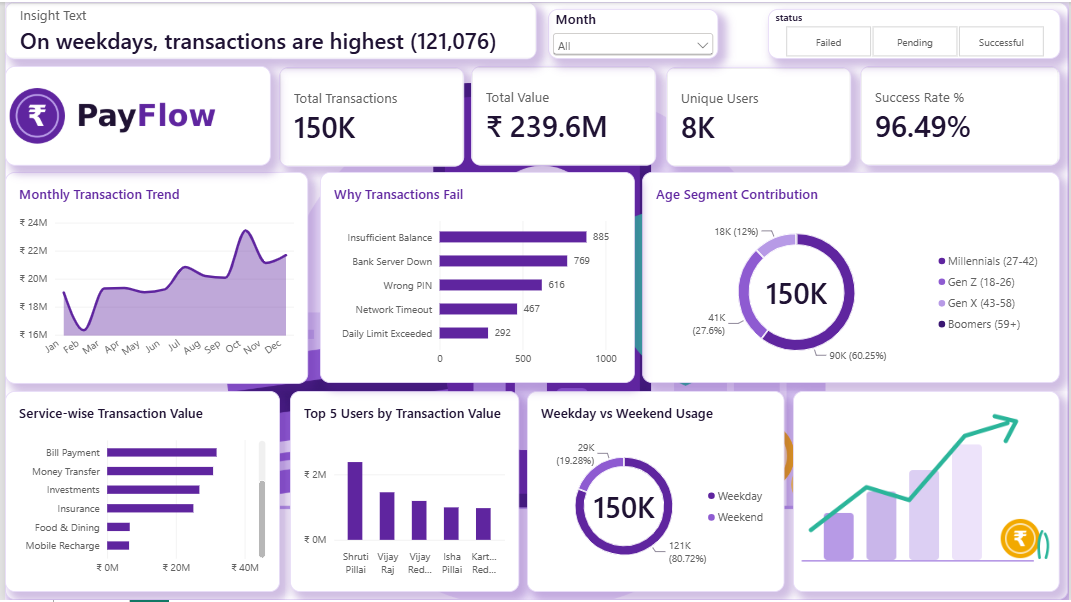

What the dashboard file says about the page in this screenshot:
{"tool":"powerbi","page":{"name":"Page 1","canvas":[1280,720],"ordinal":0},"visuals":[{"type":"image","box":[0,0,1280,720.4],"z":0},{"type":"cardVisual","fields":{"Data":["transactions.Total Transactions"]},"box":[330,78,223,120],"z":1000},{"type":"cardVisual","fields":{"Data":["transactions.Total Value"]},"box":[560.7,77.6,223,120],"z":2000},{"type":"cardVisual","fields":{"Data":["transactions.Unique Users"]},"box":[796,78,223,120],"z":3000},{"type":"cardVisual","fields":{"Data":["transactions.Success Rate %"]},"box":[1029.1,77.6,240.9,120.4],"z":4000},{"type":"areaChart","title":"Monthly Transaction Trend","fields":{"Category":["DimDate.Month"],"Y":["transactions.Total Value"]},"box":[0,204.4,365,255],"z":5000},{"type":"donutChart","title":"Age Segment Contribution","fields":{"Category":["users.age_group"],"Y":["transactions.Total Transactions"]},"box":[766.8,204.8,503.2,254.3],"z":6000},{"type":"clusteredBarChart","title":"Service-wise Transaction Value","fields":{"Category":["transactions.service_type"],"Y":["transactions.Total Value"]},"box":[0,468.4,330.6,242.2],"z":7000},{"type":"clusteredColumnChart","title":"Top 5 Users by Transaction Value","fields":{"Category":["users.user_name"],"Y":["transactions.Total Value"]},"box":[342.6,468.4,275.7,242.2],"z":8000},{"type":"donutChart","title":"Weekday vs Weekend Usage","fields":{"Category":["DimDate.Day Type"],"Y":["transactions.Total Transactions"]},"box":[629,468.4,310.5,242.2],"z":9000},{"type":"slicer","fields":{"Values":["DimDate.Month"]},"box":[654,8,205,60],"z":10000},{"type":"slicer","fields":{"Values":["transactions.status"]},"box":[918.1,8,352,60.2],"z":11000},{"type":"cardVisual","fields":{"Data":["transactions.Insight Text"]},"box":[0,0,640,69.1],"z":12000},{"type":"clusteredBarChart","title":"Why Transactions Fail","fields":{"Category":["transactions.failure_reason"],"Y":["transactions.Total Transactions"]},"box":[378.7,204.8,378.7,254.3],"z":13000},{"type":"image","box":[0,77.5,320,119.8],"z":14000},{"type":"image","box":[948.8,468.4,321.2,242.2],"z":15000}]}

Visuals, with their boxes in screenshot pixels (x1, y1, x2, y2), scaled from the page's 1280x720 canvas onto the 1071x602 screenshot:
image: BBox(0, 0, 1070, 601)
cardVisual - transactions.Total Transactions: BBox(276, 65, 463, 166)
cardVisual - transactions.Total Value: BBox(469, 65, 656, 165)
cardVisual - transactions.Unique Users: BBox(666, 65, 853, 166)
cardVisual - transactions.Success Rate %: BBox(861, 65, 1063, 166)
"Monthly Transaction Trend" areaChart: BBox(0, 171, 305, 384)
"Age Segment Contribution" donutChart: BBox(642, 171, 1063, 384)
"Service-wise Transaction Value" clusteredBarChart: BBox(0, 392, 277, 594)
"Top 5 Users by Transaction Value" clusteredColumnChart: BBox(287, 392, 517, 594)
"Weekday vs Weekend Usage" donutChart: BBox(526, 392, 786, 594)
slicer - DimDate.Month: BBox(547, 7, 719, 57)
slicer - transactions.status: BBox(768, 7, 1063, 57)
cardVisual - transactions.Insight Text: BBox(0, 0, 536, 58)
"Why Transactions Fail" clusteredBarChart: BBox(317, 171, 634, 384)
image: BBox(0, 65, 268, 165)
image: BBox(794, 392, 1063, 594)
